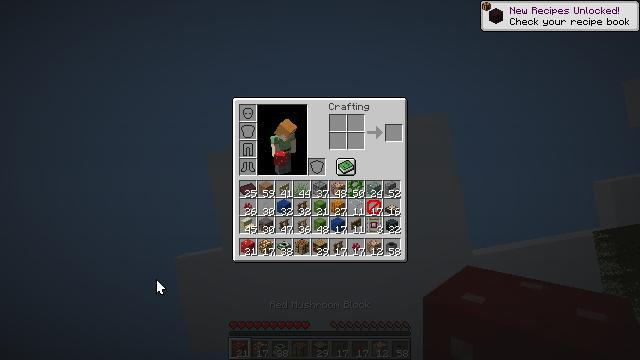cursor: (279, 156, 295, 166)
